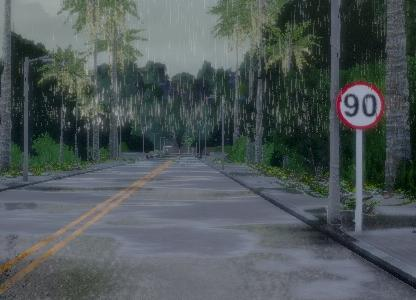Speed_90: (334, 79, 384, 129)
